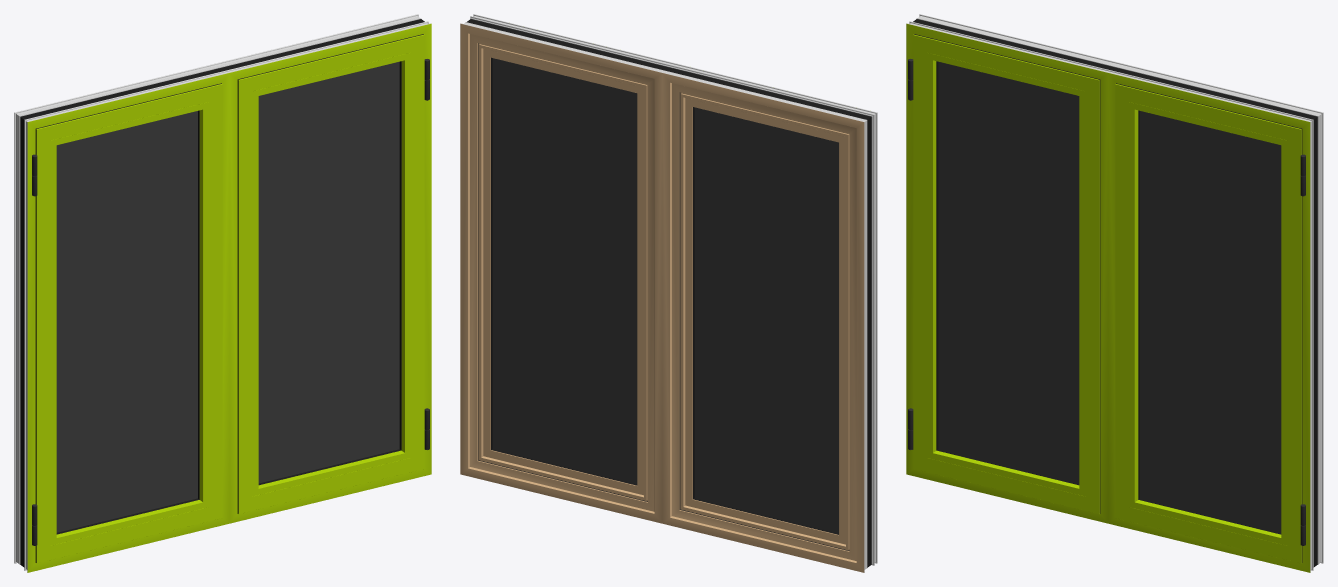
The model's file is 85_2_doors.fbx.
3 renders of one model, left to right at view 1: azimuth 30°, elevation 25°; view 2: azimuth 150°, elevation 25°; view 3: azimuth 330°, elevation 25°, orthographic.
Parts seen in each view (by area): view 1: SM_Door_Frame_85_R_002, SM_Door_Frame_85_L_002, SM_Window_Frame_85_001, SM_Door_Frame_85_R_003, SM_Door_Frame_85_L_003, SM_Window_Frame_85_002, SM_Door_Frame_85_R_011, SM_Door_Frame_85_L_012; view 2: SM_Door_Frame_85_R_002, SM_Door_Frame_85_L_002, SM_Window_Frame_85_001, SM_Door_Frame_85_L_003, SM_Door_Frame_85_R_003, SM_Window_Frame_85_002, SM_Window_Frame_85_007, SM_Door_Frame_85_R_011, SM_Door_Frame_85_L_012; view 3: SM_Door_Frame_85_L_002, SM_Door_Frame_85_R_002, SM_Window_Frame_85_001, SM_Door_Frame_85_L_003, SM_Door_Frame_85_R_003, SM_Window_Frame_85_002, SM_Door_Frame_85_L_012, SM_Door_Frame_85_R_011.
Boxes of the visible parts, box(x1,y1,x2,y2) form: SM_Door_Frame_85_R_002: box(258, 61, 399, 483); SM_Door_Frame_85_L_002: box(56, 111, 197, 532); SM_Window_Frame_85_001: box(14, 14, 431, 572); SM_Door_Frame_85_R_003: box(238, 34, 424, 513); SM_Door_Frame_85_L_003: box(36, 84, 222, 563); SM_Window_Frame_85_002: box(20, 19, 424, 567); SM_Door_Frame_85_R_011: box(237, 34, 423, 513); SM_Door_Frame_85_L_012: box(35, 83, 221, 562); SM_Door_Frame_85_R_002: box(493, 58, 637, 483); SM_Door_Frame_85_L_002: box(695, 107, 838, 532); SM_Window_Frame_85_001: box(460, 14, 877, 572); SM_Door_Frame_85_L_003: box(680, 92, 849, 550); SM_Door_Frame_85_R_003: box(478, 43, 647, 501); SM_Window_Frame_85_002: box(466, 19, 871, 567); SM_Window_Frame_85_007: box(478, 43, 849, 551); SM_Door_Frame_85_R_011: box(491, 57, 637, 485); SM_Door_Frame_85_L_012: box(693, 107, 838, 534); SM_Door_Frame_85_L_002: box(938, 61, 1079, 483); SM_Door_Frame_85_R_002: box(1140, 111, 1281, 532); SM_Window_Frame_85_001: box(906, 14, 1323, 572); SM_Door_Frame_85_L_003: box(913, 34, 1099, 513); SM_Door_Frame_85_R_003: box(1115, 84, 1301, 563); SM_Window_Frame_85_002: box(913, 19, 1317, 567); SM_Door_Frame_85_L_012: box(914, 34, 1100, 513); SM_Door_Frame_85_R_011: box(1116, 83, 1302, 562).
Size of the model in its own units: 150 by 160 by 10.26.
